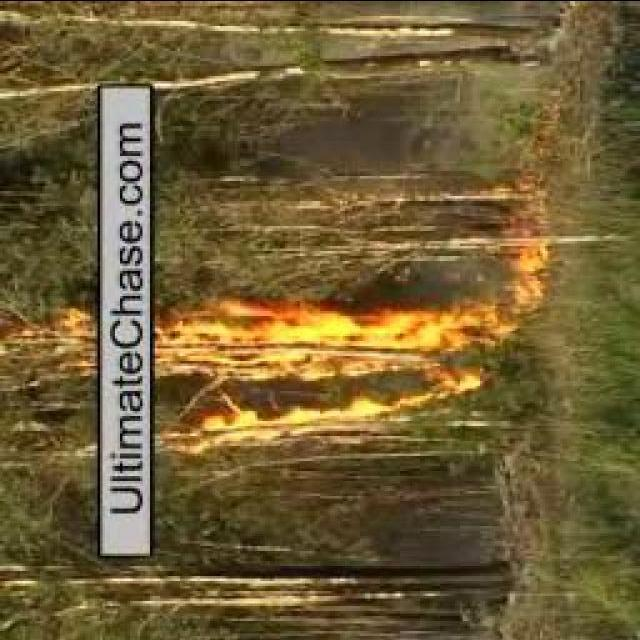Fire: (158, 273, 498, 453), (7, 306, 105, 376), (512, 240, 542, 316)
